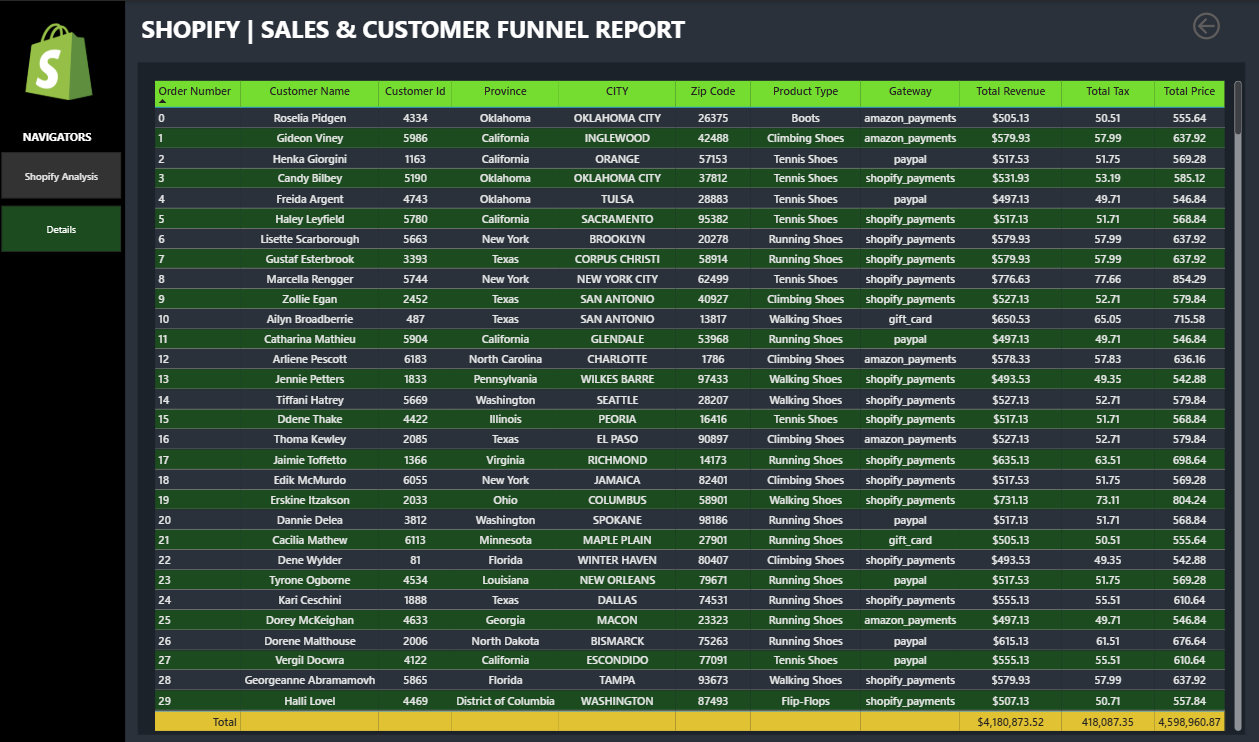

The page's visual inventory and layout, read from the dashboard file:
{"tool":"powerbi","page":{"name":"Details","canvas":[1700,1000],"ordinal":1},"visuals":[{"type":"shape","box":[0,0,169.8,1000.3],"z":0},{"type":"textbox","box":[186.6,10.1,785.1,70.6],"z":1000},{"type":"shape","box":[186.6,82.4,1489.6,904.5],"z":2000},{"type":"image","box":[6.7,25.2,147.9,112.6],"z":3000},{"type":"tableEx","fields":{"Values":["shopify_sales.Order Number","shopify_sales.Customer Name","shopify_sales.Customer Id","shopify_sales.Billing Address Province","shopify_sales.CITY","shopify_sales.Billing Address Zip","shopify_sales.Product Type","shopify_sales.Gateway","Key Measures.Total Revenue","Sum(shopify_sales.Total Tax)","Sum(shopify_sales.Total Price Usd)"]},"box":[203.4,102.6,1472.8,884.3],"z":4000},{"type":"actionButton","box":[1600.5,10.1,75.7,47.1],"z":4001},{"type":"pageNavigator","box":[3.4,203.4,161.4,134.5],"z":4002},{"type":"textbox","box":[26.9,168.1,119.4,38.7],"z":4003}]}

Visuals, with their boxes on the page's 1700x1000 design canvas (x1, y1, x2, y2). These are canvas units, not pixel positions in the 1259x742 screenshot, which may show the page scaled, cropped or inside an application window:
shape: bbox=(0, 0, 170, 1000)
textbox: bbox=(187, 10, 972, 81)
shape: bbox=(187, 82, 1676, 987)
image: bbox=(7, 25, 155, 138)
tableEx - shopify_sales.Order Number x shopify_sales.Customer Name: bbox=(203, 103, 1676, 987)
actionButton: bbox=(1600, 10, 1676, 57)
pageNavigator: bbox=(3, 203, 165, 338)
textbox: bbox=(27, 168, 146, 207)
